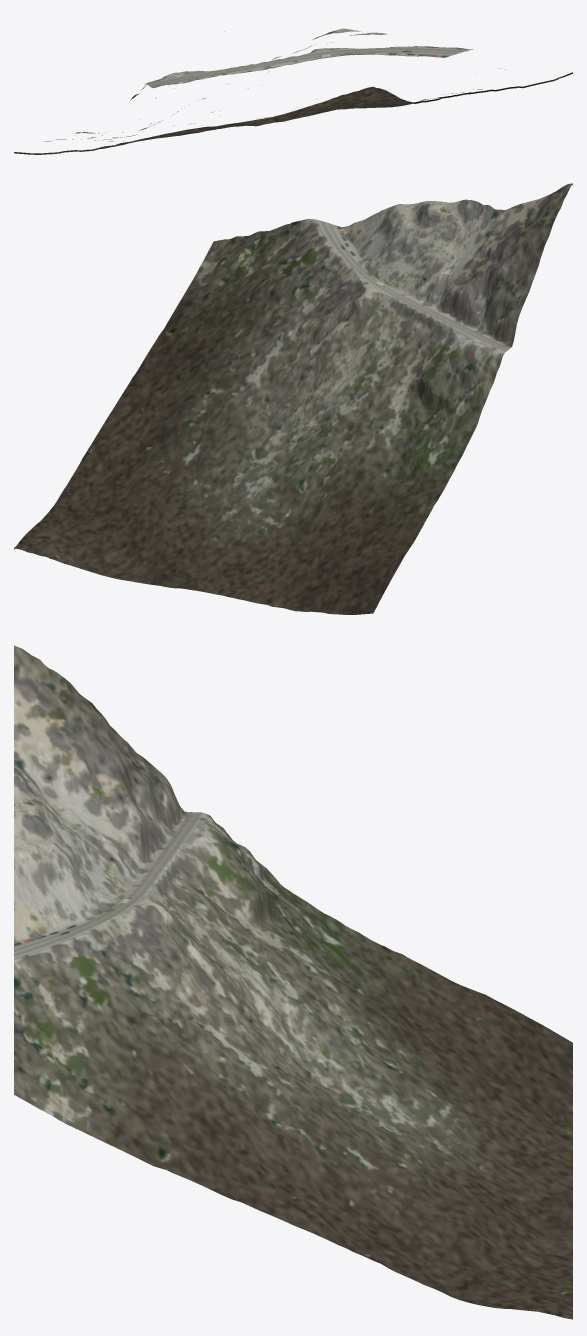
The picture shows the model from 3 angles, top to bottom: view 1: azimuth 30°, elevation 25°; view 2: azimuth 150°, elevation 25°; view 3: azimuth 270°, elevation 25°; orthographic projection. The views are drawn at different scales.
Bounding box in the file's own units: 250 × 209 × 241.
Materials: 1 (1 with a texture image).
